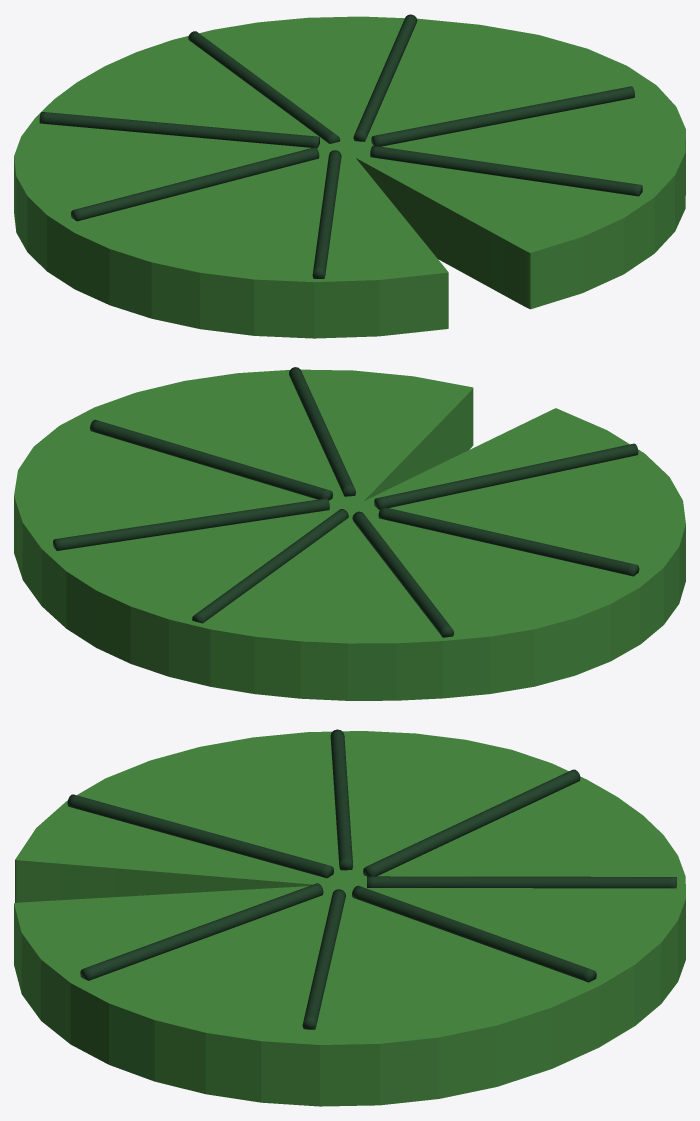
Rendered from nenuphar.fbx.
The picture shows the model from 3 angles, top to bottom: view 1: azimuth 30°, elevation 25°; view 2: azimuth 150°, elevation 25°; view 3: azimuth 270°, elevation 25°; orthographic projection. The views are drawn at different scales.
Visible parts, largest first — view 1: BezierCircle, NurbsPath.002; view 2: BezierCircle, NurbsPath.002; view 3: BezierCircle, NurbsPath.002.
Boxes of the visible parts, x1,y1,x2,y2 form: BezierCircle: [14, 16, 685, 338]; NurbsPath.002: [39, 14, 642, 278]; BezierCircle: [14, 369, 685, 700]; NurbsPath.002: [53, 367, 639, 637]; BezierCircle: [14, 731, 685, 1106]; NurbsPath.002: [67, 729, 676, 1029].
Size of the model in its own units: 267 by 28.34 by 241.
